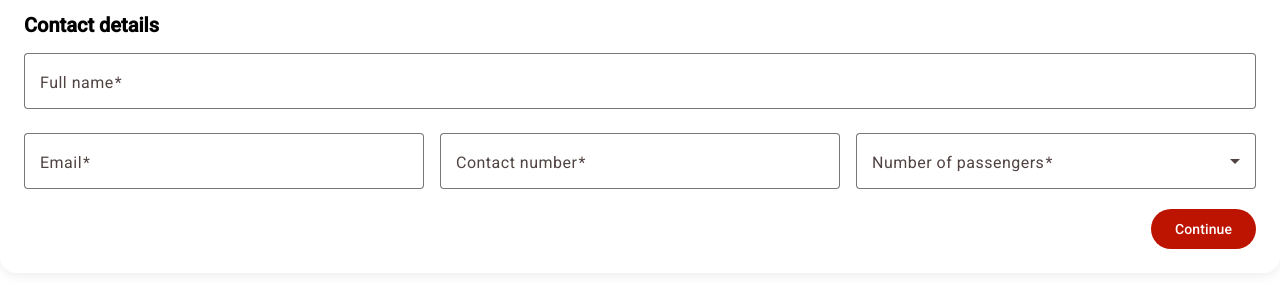
it: BookingFormComponent › should explain an invalid email and phone number
The width and height of the screenshot is (1280, 291).
Type "not-an-email" into the field labelled "Email". click: (224, 161)
box: [40,149,408,173]
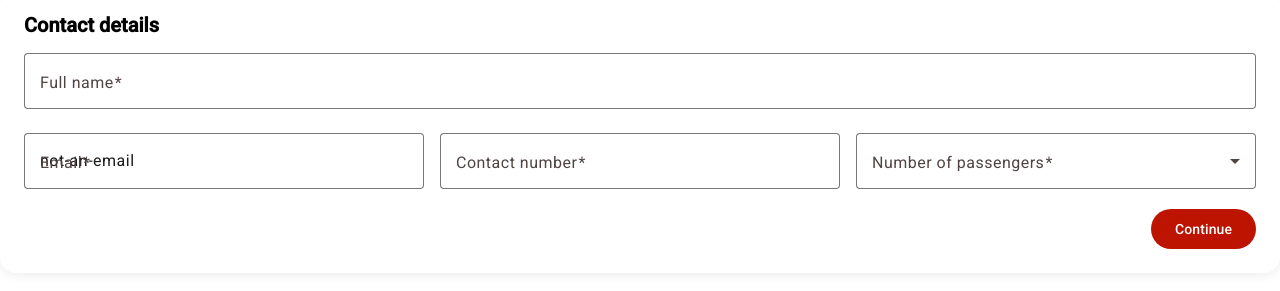
Type "abc" into the field labelled "Contact number". click: (640, 161)
box: [456,149,824,173]
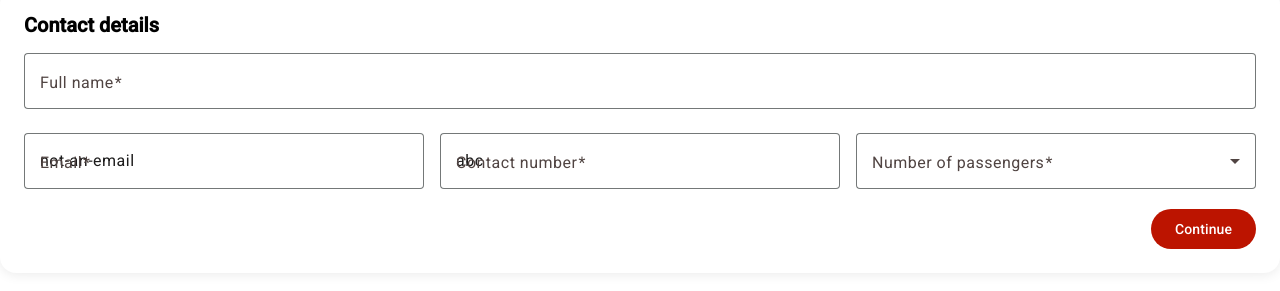
Leave the field labelled "Contact number", box [456,149,824,173]
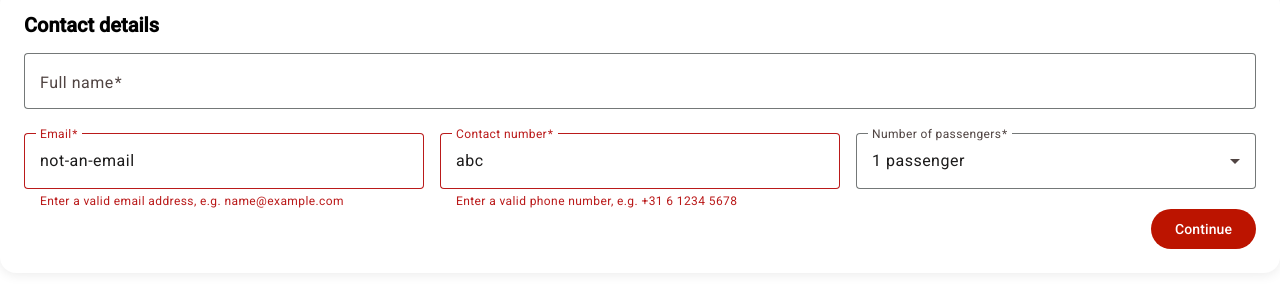
Check: the text "Enter a valid email address, e.g. name@example.com" is shown, box [40,194,344,208]
Check: the text "Enter a valid phone number, e.g. +31 6 1234 5678" is shown, box [456,194,737,208]
